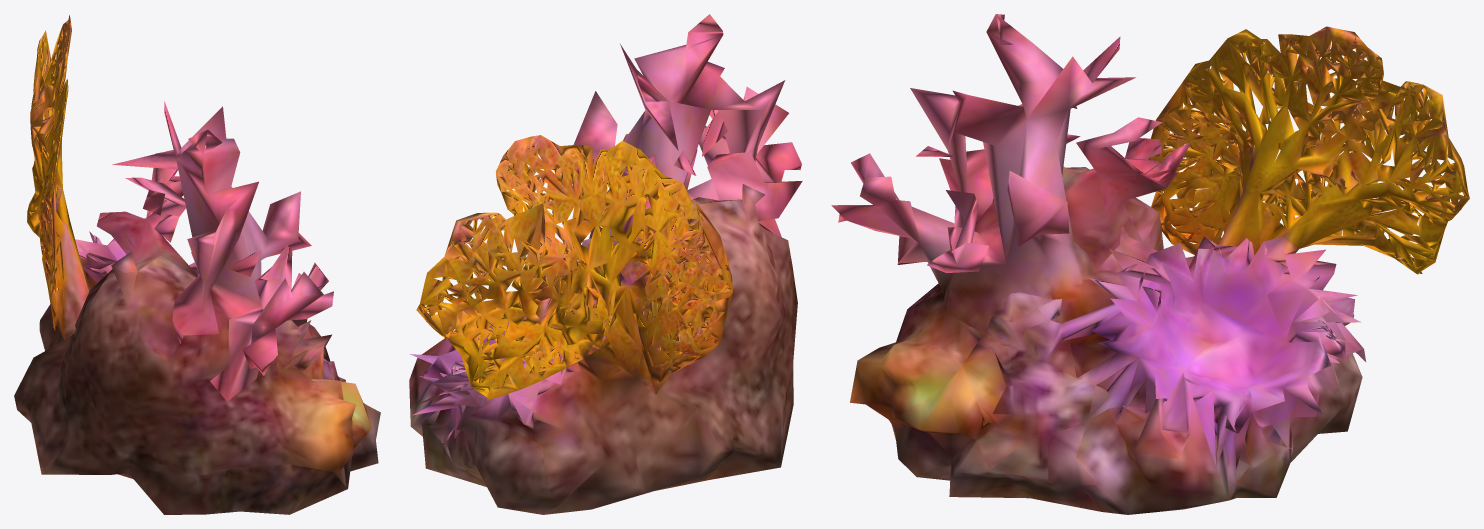
File: coral.glb
3 views of the same model, side by side, from view 1: azimuth 30°, elevation 25°; view 2: azimuth 150°, elevation 25°; view 3: azimuth 270°, elevation 25° (orthographic). The views are drawn at different scales.
Visible parts, largest first — view 1: tripo_node_6439f608-e308-4288-b7e6-d8b69c0028e1; view 2: tripo_node_6439f608-e308-4288-b7e6-d8b69c0028e1; view 3: tripo_node_6439f608-e308-4288-b7e6-d8b69c0028e1.
Boxes of the visible parts, <box> form: tripo_node_6439f608-e308-4288-b7e6-d8b69c0028e1: <box>14,15,380,514</box>; tripo_node_6439f608-e308-4288-b7e6-d8b69c0028e1: <box>409,14,802,514</box>; tripo_node_6439f608-e308-4288-b7e6-d8b69c0028e1: <box>831,14,1469,514</box>.
Size of the model in its own units: 0.6288 by 0.7082 by 1.
1 material, 1 textured.
